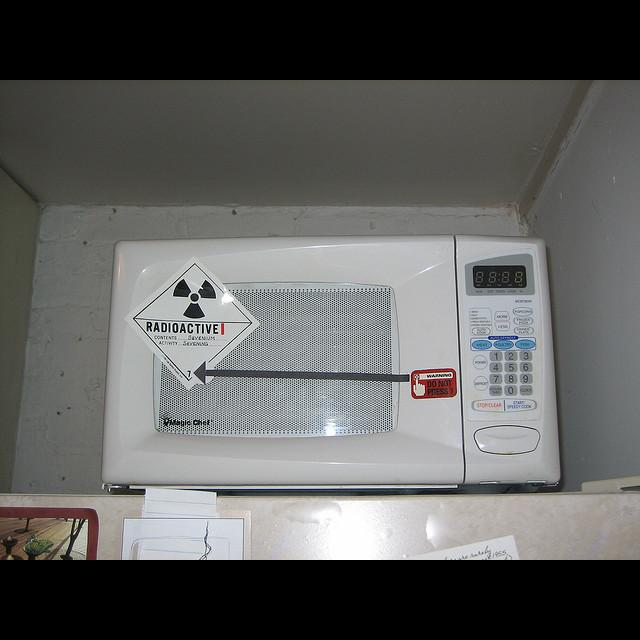Microwave: (99, 234, 568, 492)
